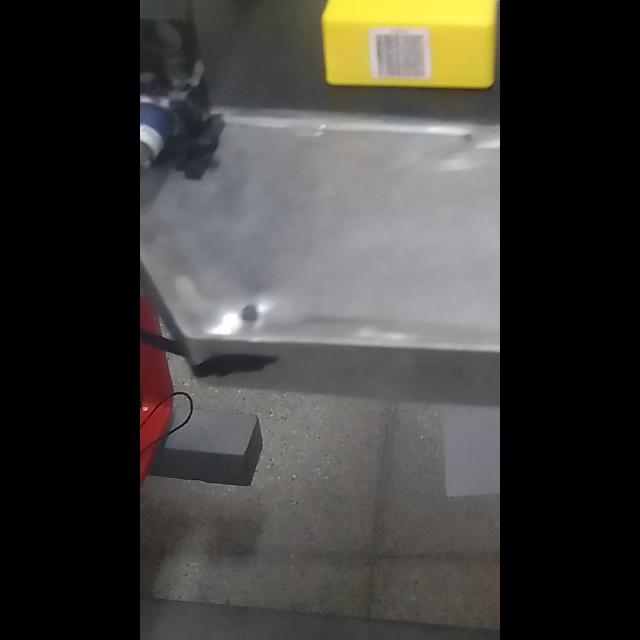yellowBox: (312, 0, 500, 104)
